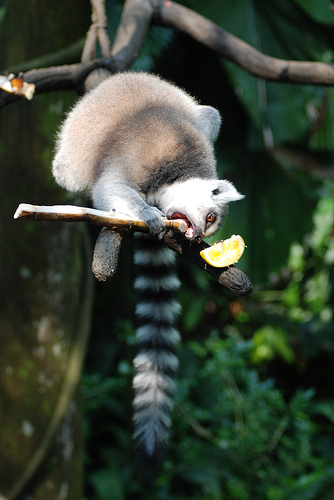cat: (47, 66, 247, 466)
